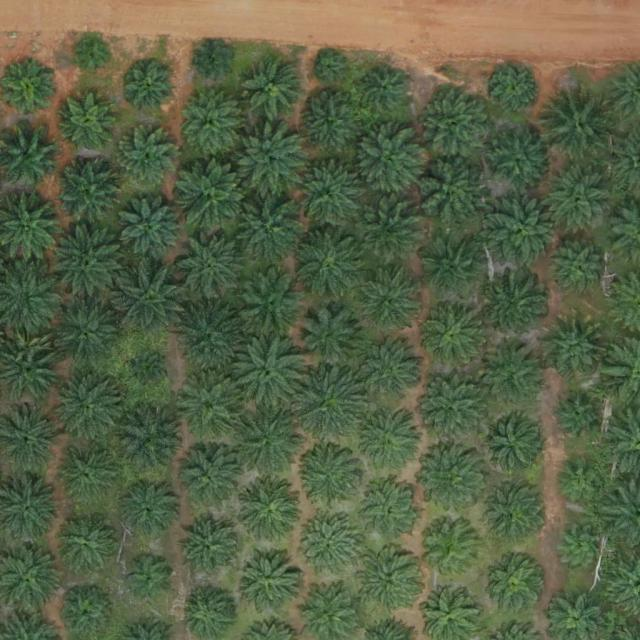Healthy: (46, 226, 124, 305), (112, 262, 190, 341), (175, 157, 253, 236), (173, 300, 251, 379), (227, 187, 305, 266), (233, 332, 311, 411), (293, 226, 371, 305), (289, 367, 367, 446), (418, 84, 496, 163), (410, 154, 488, 233), (413, 371, 491, 450), (485, 194, 563, 273), (542, 85, 620, 164), (539, 162, 617, 241), (231, 403, 309, 482), (290, 159, 368, 237), (55, 157, 125, 228), (174, 230, 244, 301), (178, 372, 248, 443), (235, 125, 306, 195), (236, 270, 307, 340), (295, 305, 366, 375), (357, 339, 428, 409), (350, 406, 420, 477), (117, 404, 187, 475), (50, 299, 120, 369), (117, 195, 187, 265), (53, 372, 123, 442), (354, 127, 424, 197), (354, 197, 424, 267), (415, 448, 485, 518), (52, 443, 122, 513), (242, 59, 305, 122), (422, 239, 485, 302), (482, 339, 545, 402), (420, 518, 483, 581), (359, 481, 422, 544), (297, 446, 360, 509), (175, 447, 238, 510), (115, 128, 177, 191), (180, 91, 242, 154), (298, 93, 360, 156), (423, 302, 485, 365), (489, 129, 551, 192), (490, 274, 552, 337), (547, 316, 609, 379), (480, 413, 542, 476), (481, 483, 543, 546), (486, 553, 548, 616), (358, 551, 420, 614), (299, 514, 361, 577), (238, 482, 300, 545), (56, 514, 118, 577), (238, 551, 300, 613), (180, 518, 242, 580), (118, 482, 180, 544), (62, 94, 117, 149), (124, 62, 179, 117), (362, 274, 417, 329), (552, 243, 607, 298), (3, 65, 57, 120), (125, 553, 172, 601), (362, 67, 409, 114), (493, 65, 540, 112), (554, 395, 601, 442)
Small: (559, 524, 606, 571), (558, 459, 605, 506), (130, 353, 170, 393), (75, 38, 114, 78), (193, 43, 233, 82), (316, 54, 347, 85)
